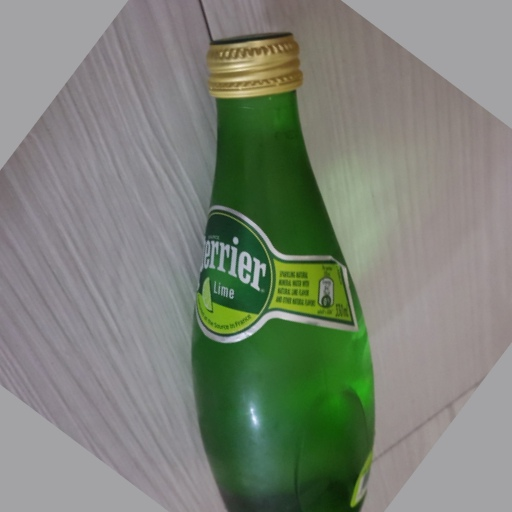Glass_4: (190, 23, 379, 512)
